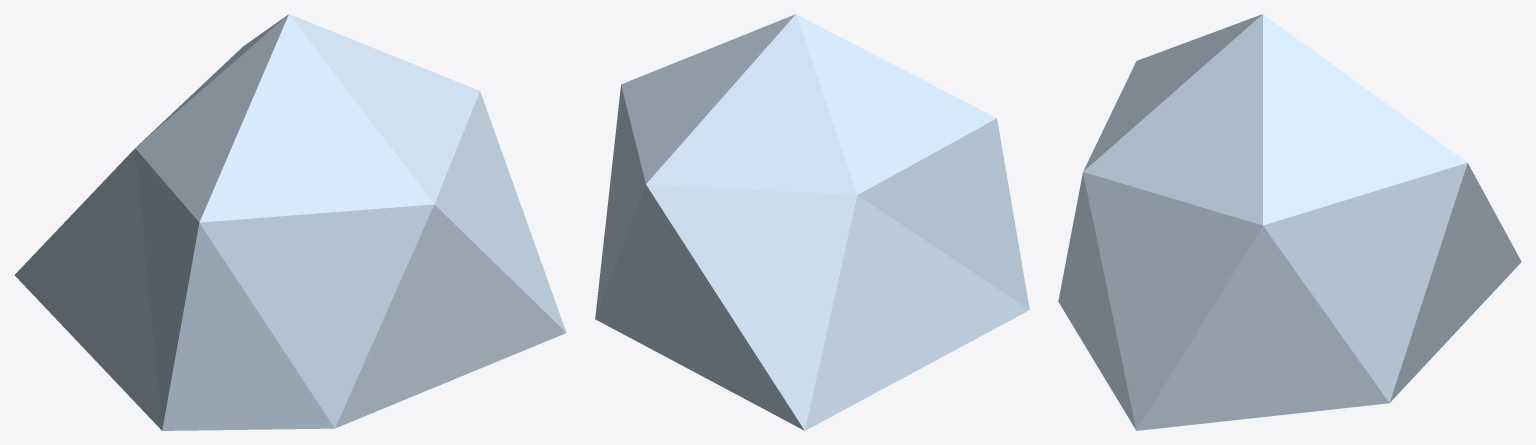
The model's file is Rock_1.fbx.
3 renders of one model, left to right at view 1: azimuth 30°, elevation 25°; view 2: azimuth 150°, elevation 25°; view 3: azimuth 270°, elevation 25°, orthographic. The views are drawn at different scales.
Visible parts, largest first — view 1: Icosphere; view 2: Icosphere; view 3: Icosphere.
Boxes of the visible parts, bbox=[...] form: Icosphere: bbox=[14, 14, 566, 430]; Icosphere: bbox=[595, 14, 1029, 430]; Icosphere: bbox=[1058, 14, 1521, 430].
Bounding box in the file's own units: 130 × 99.27 × 132.
